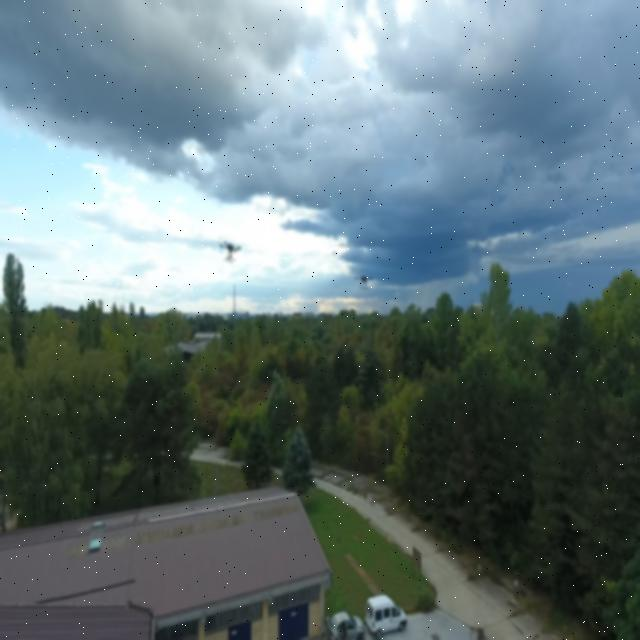UAV: (208, 235, 254, 266), (346, 270, 384, 294)
